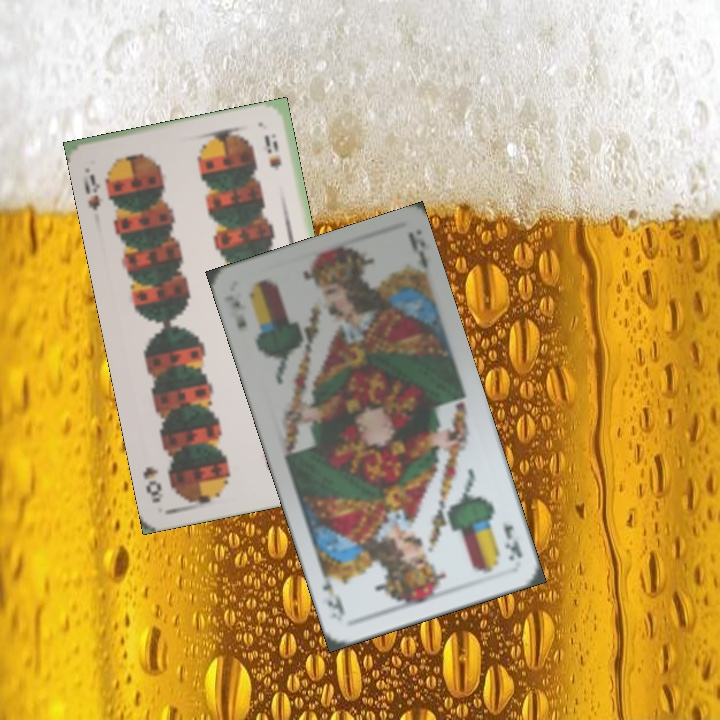EK: (498, 518, 525, 564), (221, 291, 249, 332)
S8: (83, 170, 103, 213)
